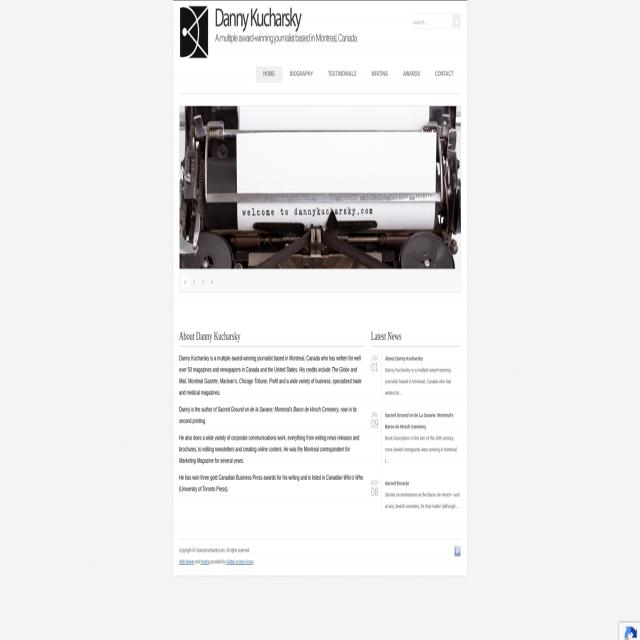button: (179, 106, 461, 268), (179, 0, 360, 62), (320, 66, 364, 82), (282, 66, 321, 82), (427, 66, 461, 82), (364, 66, 396, 82), (396, 66, 428, 82), (256, 66, 282, 82), (452, 15, 460, 28), (454, 545, 461, 557), (182, 275, 188, 287), (191, 275, 197, 287), (200, 275, 206, 287), (209, 275, 215, 287)
field: (411, 13, 461, 30)
